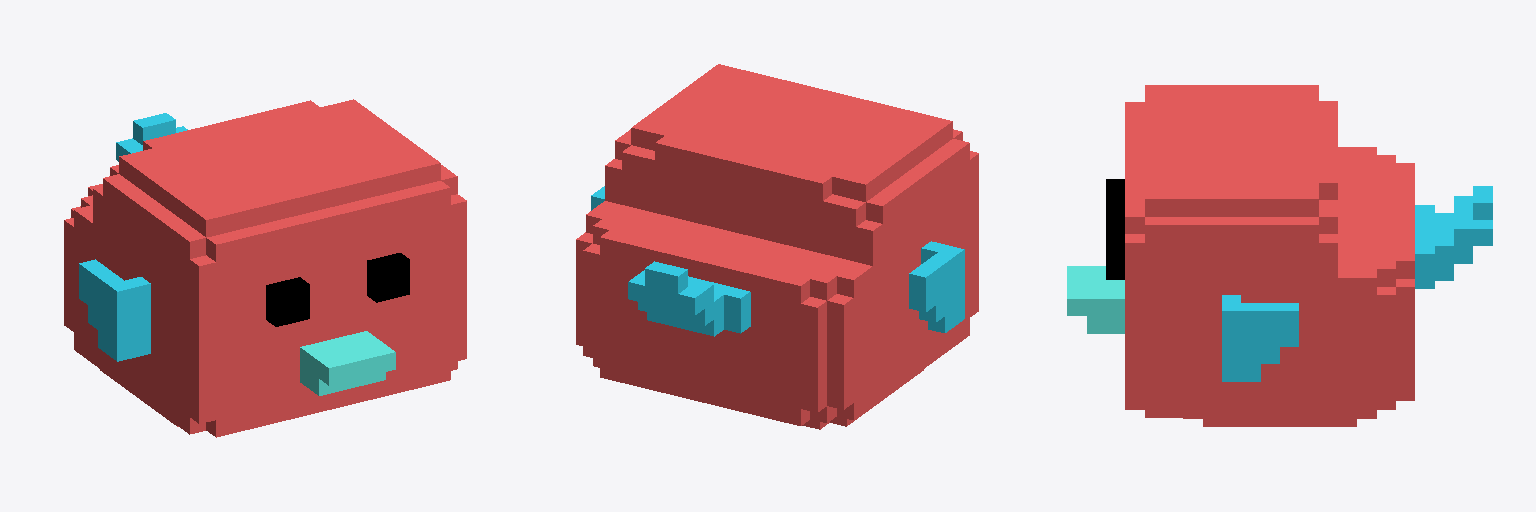
3 views of the same model, side by side, from view 1: azimuth 30°, elevation 25°; view 2: azimuth 150°, elevation 25°; view 3: azimuth 270°, elevation 25° (orthographic).
Visible parts, largest first — view 1: object 1; view 2: object 1; view 3: object 1.
Part boxes in pixels (bbox=[...]): object 1: bbox=[64, 99, 466, 437]; object 1: bbox=[576, 64, 978, 429]; object 1: bbox=[1067, 85, 1492, 426].
Size of the model in its own units: 2 by 1.3 by 2.2.
Materials: 1 (1 with a texture image).